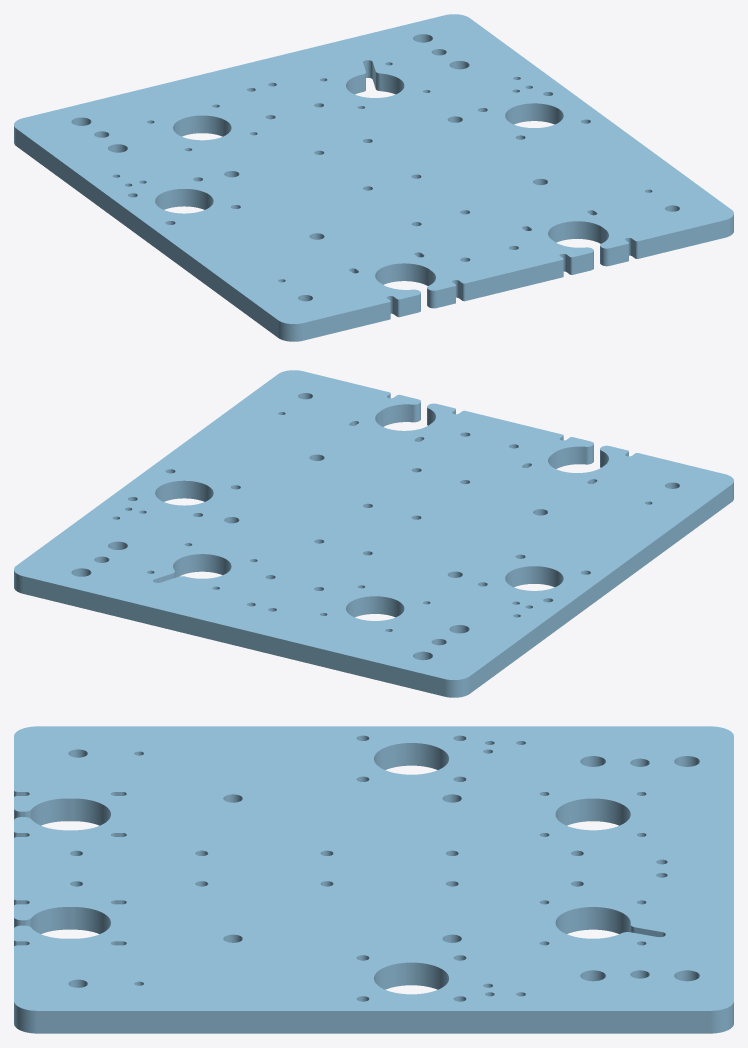
The model's file is plate.gltf.
The picture shows the model from 3 angles, top to bottom: view 1: azimuth 30°, elevation 25°; view 2: azimuth 150°, elevation 25°; view 3: azimuth 270°, elevation 25°; orthographic projection. The views are drawn at different scales.
Visible parts, largest first — view 1: Part 1; view 2: Part 1; view 3: Part 1.
Boxes of the visible parts, left/top/right/bottom form: Part 1: left=14, top=14, right=733, bottom=341; Part 1: left=14, top=370, right=733, bottom=697; Part 1: left=14, top=726, right=733, bottom=1033.
Size of the model in its own units: 0.215 by 0.008 by 0.23.
